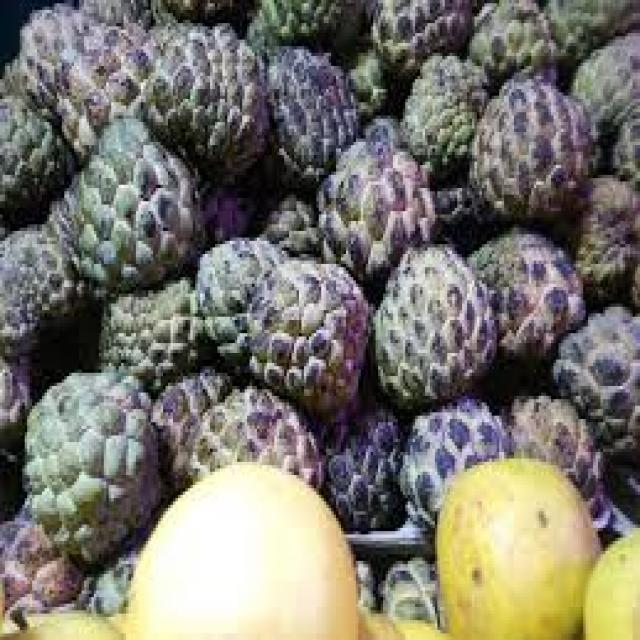organic waste: (124, 458, 358, 636), (430, 452, 600, 637), (17, 366, 166, 558), (368, 238, 492, 399), (64, 118, 195, 270), (314, 112, 432, 267), (250, 257, 366, 409), (143, 27, 264, 172), (472, 70, 591, 214), (467, 221, 583, 360), (391, 386, 504, 518), (506, 386, 606, 528), (178, 379, 311, 485), (551, 294, 638, 448), (262, 43, 358, 181), (321, 389, 410, 531), (195, 234, 282, 370), (94, 274, 198, 386), (0, 224, 84, 360), (74, 16, 163, 132), (0, 69, 69, 218), (571, 26, 637, 175), (408, 50, 484, 158), (0, 521, 86, 610), (20, 6, 96, 106), (578, 168, 638, 290), (361, 0, 474, 63), (242, 0, 363, 56), (467, 0, 548, 82), (583, 521, 638, 637), (544, 0, 638, 56), (193, 175, 269, 241), (0, 604, 124, 636), (264, 188, 319, 257), (383, 551, 440, 617), (136, 0, 257, 30), (338, 43, 396, 105), (432, 162, 482, 231), (351, 604, 452, 636), (0, 359, 32, 458)
